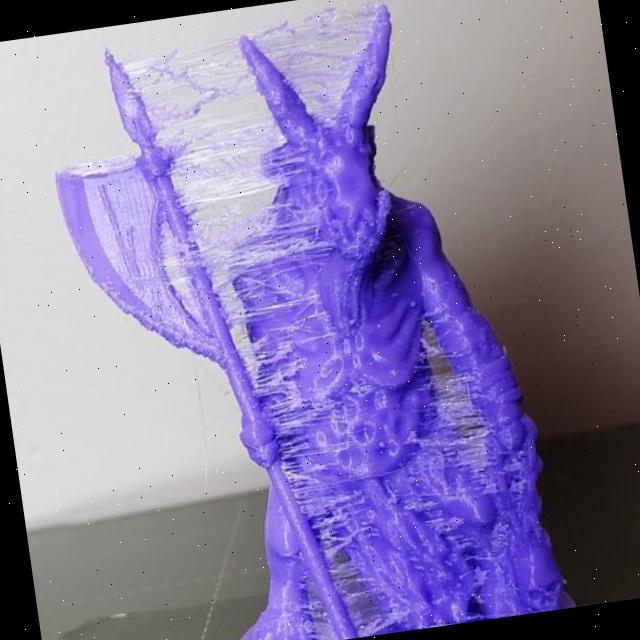stringing: (123, 32, 282, 384), (284, 465, 394, 637), (409, 326, 491, 492), (249, 11, 377, 115), (257, 339, 323, 441), (234, 203, 313, 265), (162, 224, 206, 327), (300, 563, 338, 640)
